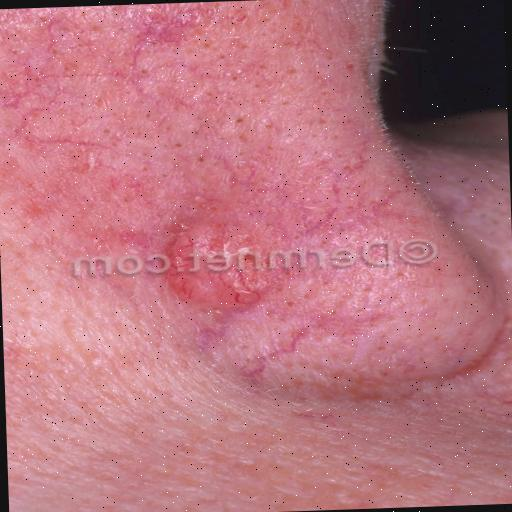Skin_Lesion: (149, 208, 283, 310)
